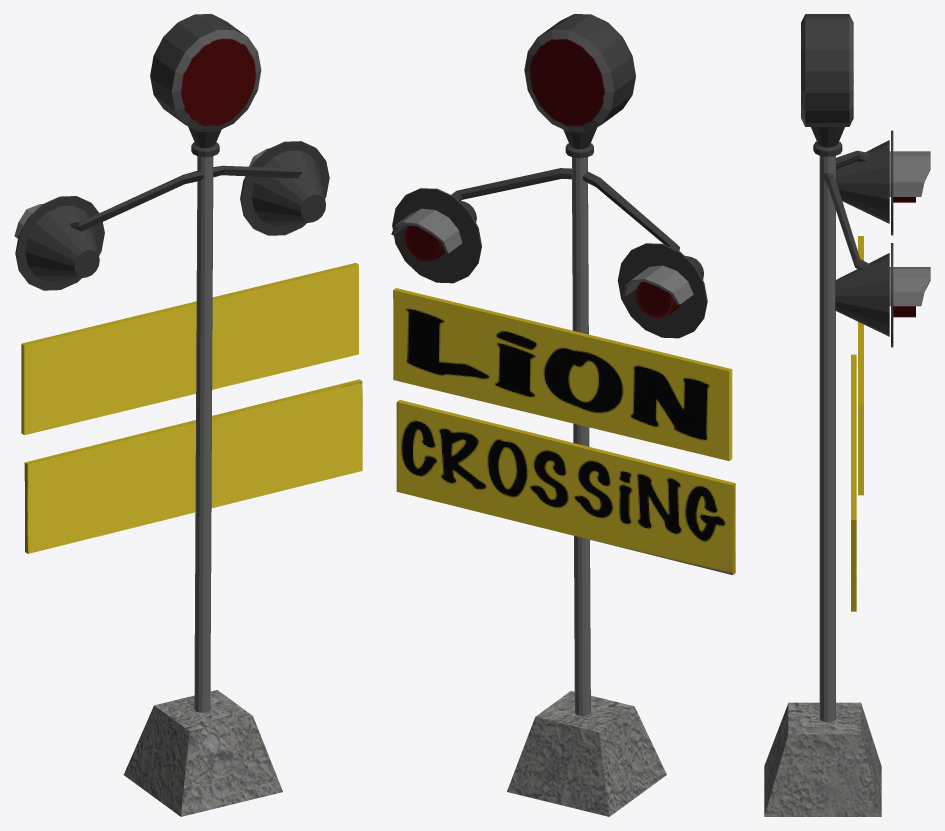
File: sign_Dark.fbx
The picture shows the model from 3 angles, left to right: view 1: azimuth 30°, elevation 25°; view 2: azimuth 150°, elevation 25°; view 3: azimuth 270°, elevation 25°; orthographic projection. The views are drawn at different scales.
Parts seen in each view (by area): view 1: polySurface19; view 2: polySurface19; view 3: polySurface19.
Part boxes in pixels (x1,y1,x2,y2): polySurface19: (14,14,362,816); polySurface19: (391,14,735,816); polySurface19: (764,14,930,816).
Size of the model in its own units: 19.26 by 41.68 by 8.11.
Materials: 1 (1 with a texture image).
